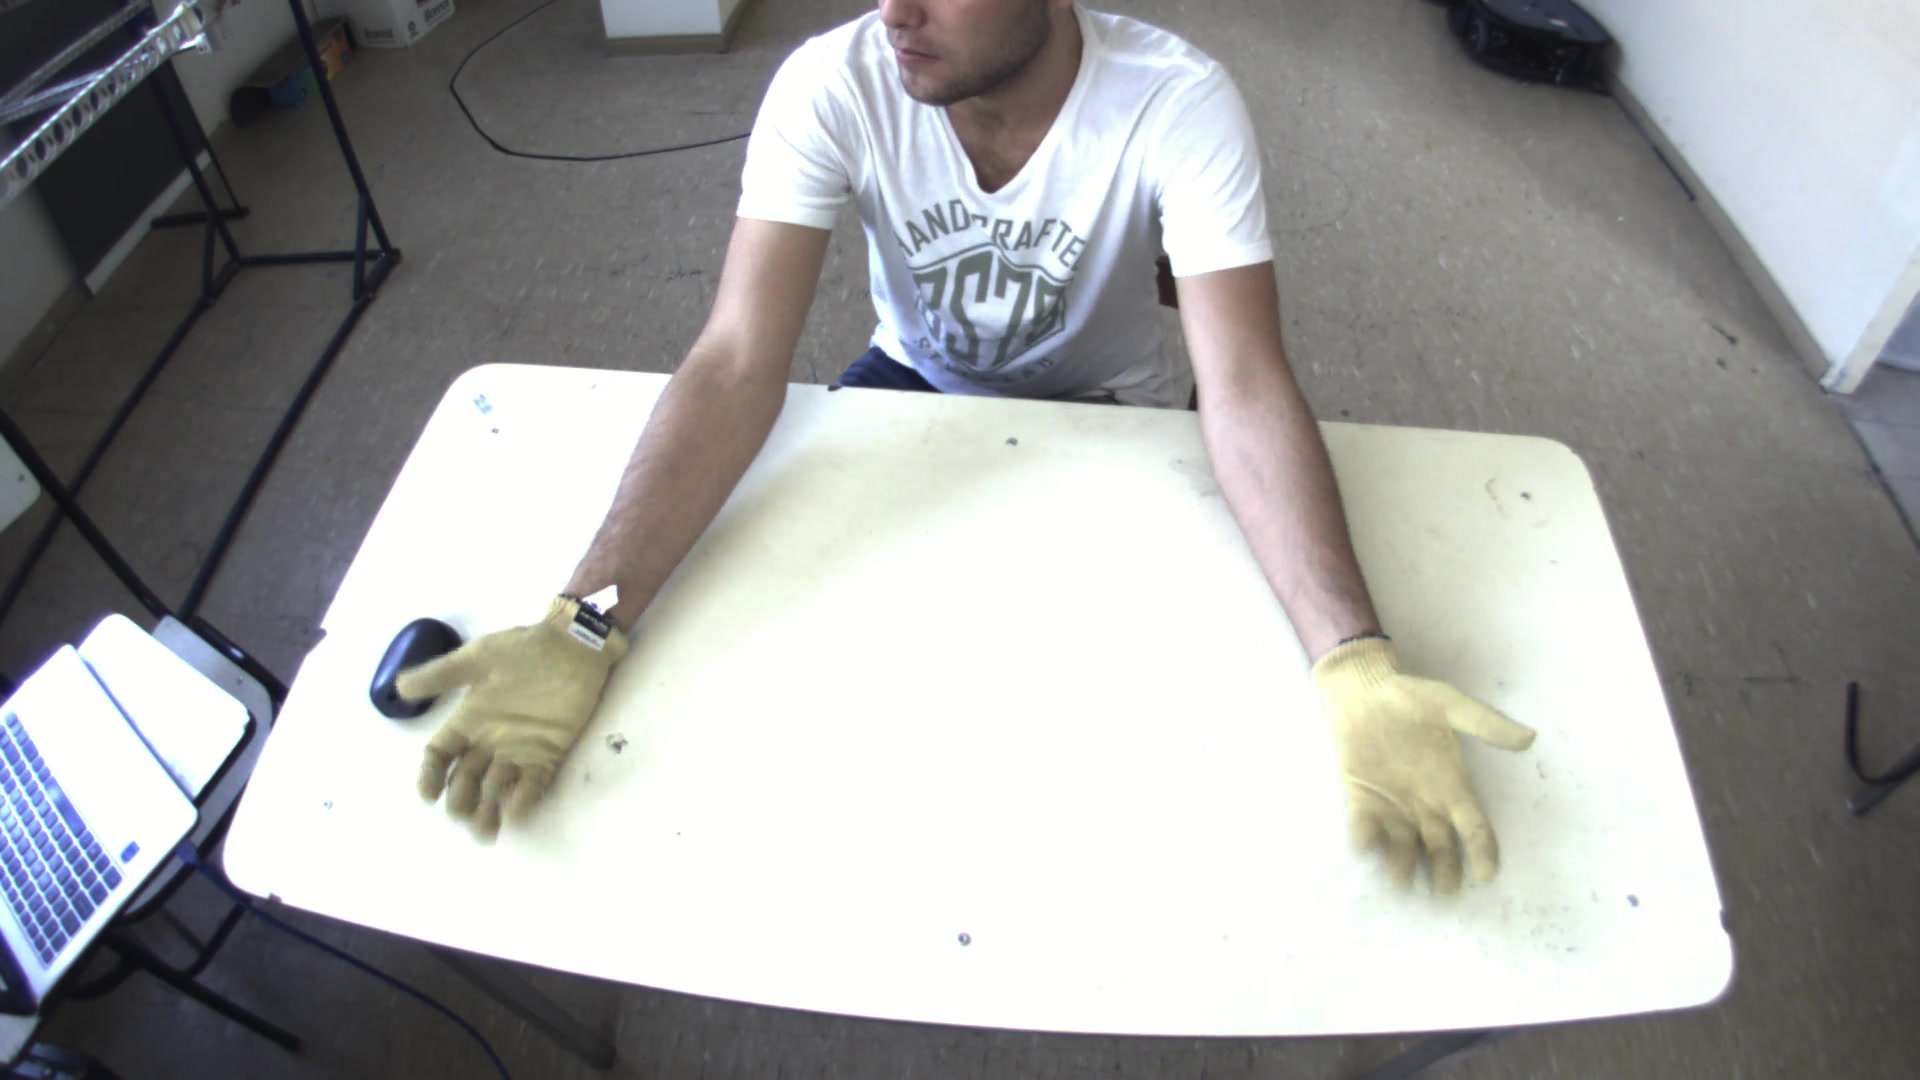hand: (1307, 625, 1557, 913), (363, 585, 628, 843)
